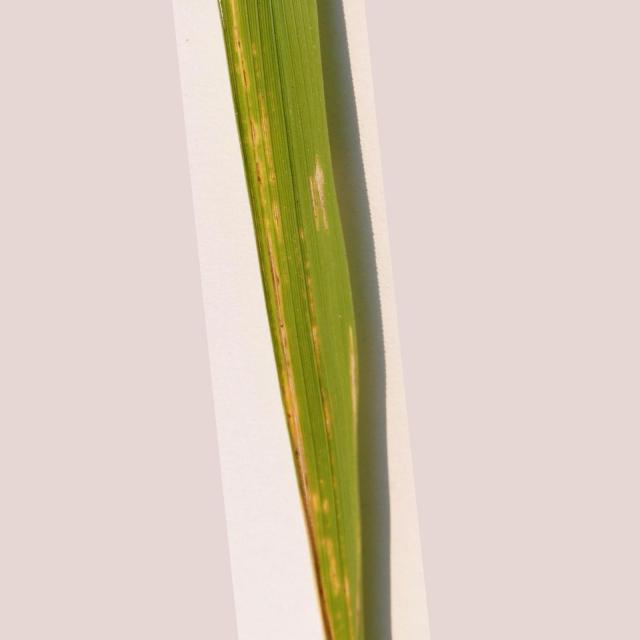Bacterial_Leaf_Blight: (265, 218, 332, 640), (228, 0, 249, 90), (309, 155, 329, 231), (260, 95, 271, 164), (327, 538, 339, 595), (349, 326, 356, 423), (255, 160, 266, 206), (323, 387, 329, 435), (312, 327, 318, 364), (346, 570, 351, 608), (250, 118, 256, 145), (272, 203, 277, 226)
